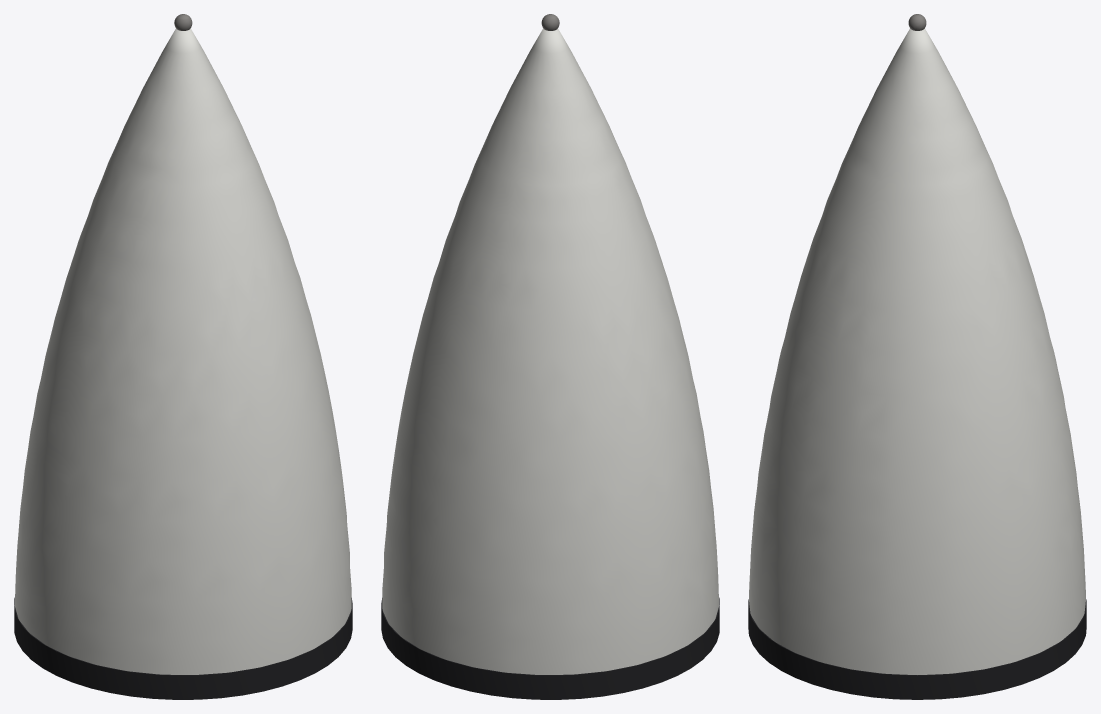
The model's file is stage13_nose_cone_ogive_l.glb.
3 views of the same model, side by side, from view 1: azimuth 30°, elevation 25°; view 2: azimuth 150°, elevation 25°; view 3: azimuth 270°, elevation 25° (orthographic).
Parts seen in each view (by area): view 1: cone, base_ring; view 2: cone, base_ring; view 3: cone, base_ring.
Part boxes in pixels (<box>): cone: <box>14,28,351,674</box>; base_ring: <box>14,597,352,699</box>; cone: <box>382,28,719,674</box>; base_ring: <box>381,597,719,699</box>; cone: <box>749,28,1085,674</box>; base_ring: <box>748,599,1086,699</box>.
Bounding box in the file's own units: 3.75 × 7.51 × 3.76.
Materials: 3 (1 with a texture image).
